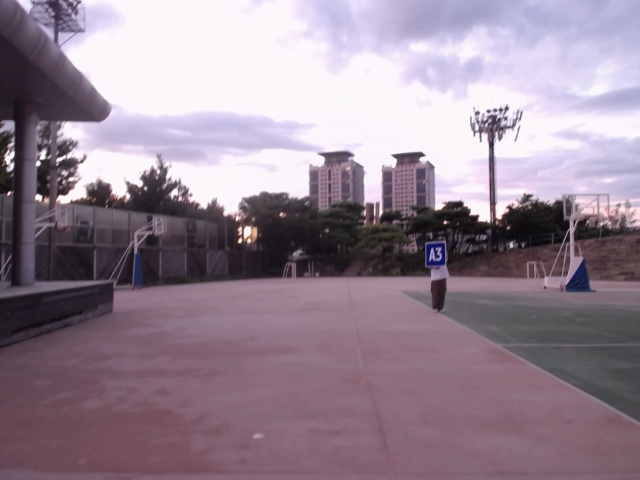delivery_a3: (424, 243, 445, 267)
